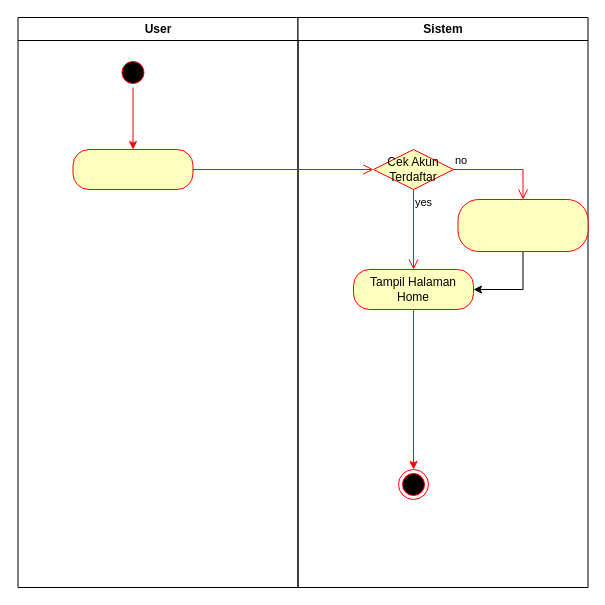
Image size: 605x605. Some labels were removed from this diagram. The shapes that lost their labels are listed below. From the top down, each one's centre as x and y in pixels, then its label:
point (132, 169): Login
point (522, 225): Lakukan Pendaftaran Akun dengan data yang didapat dari google Auth
